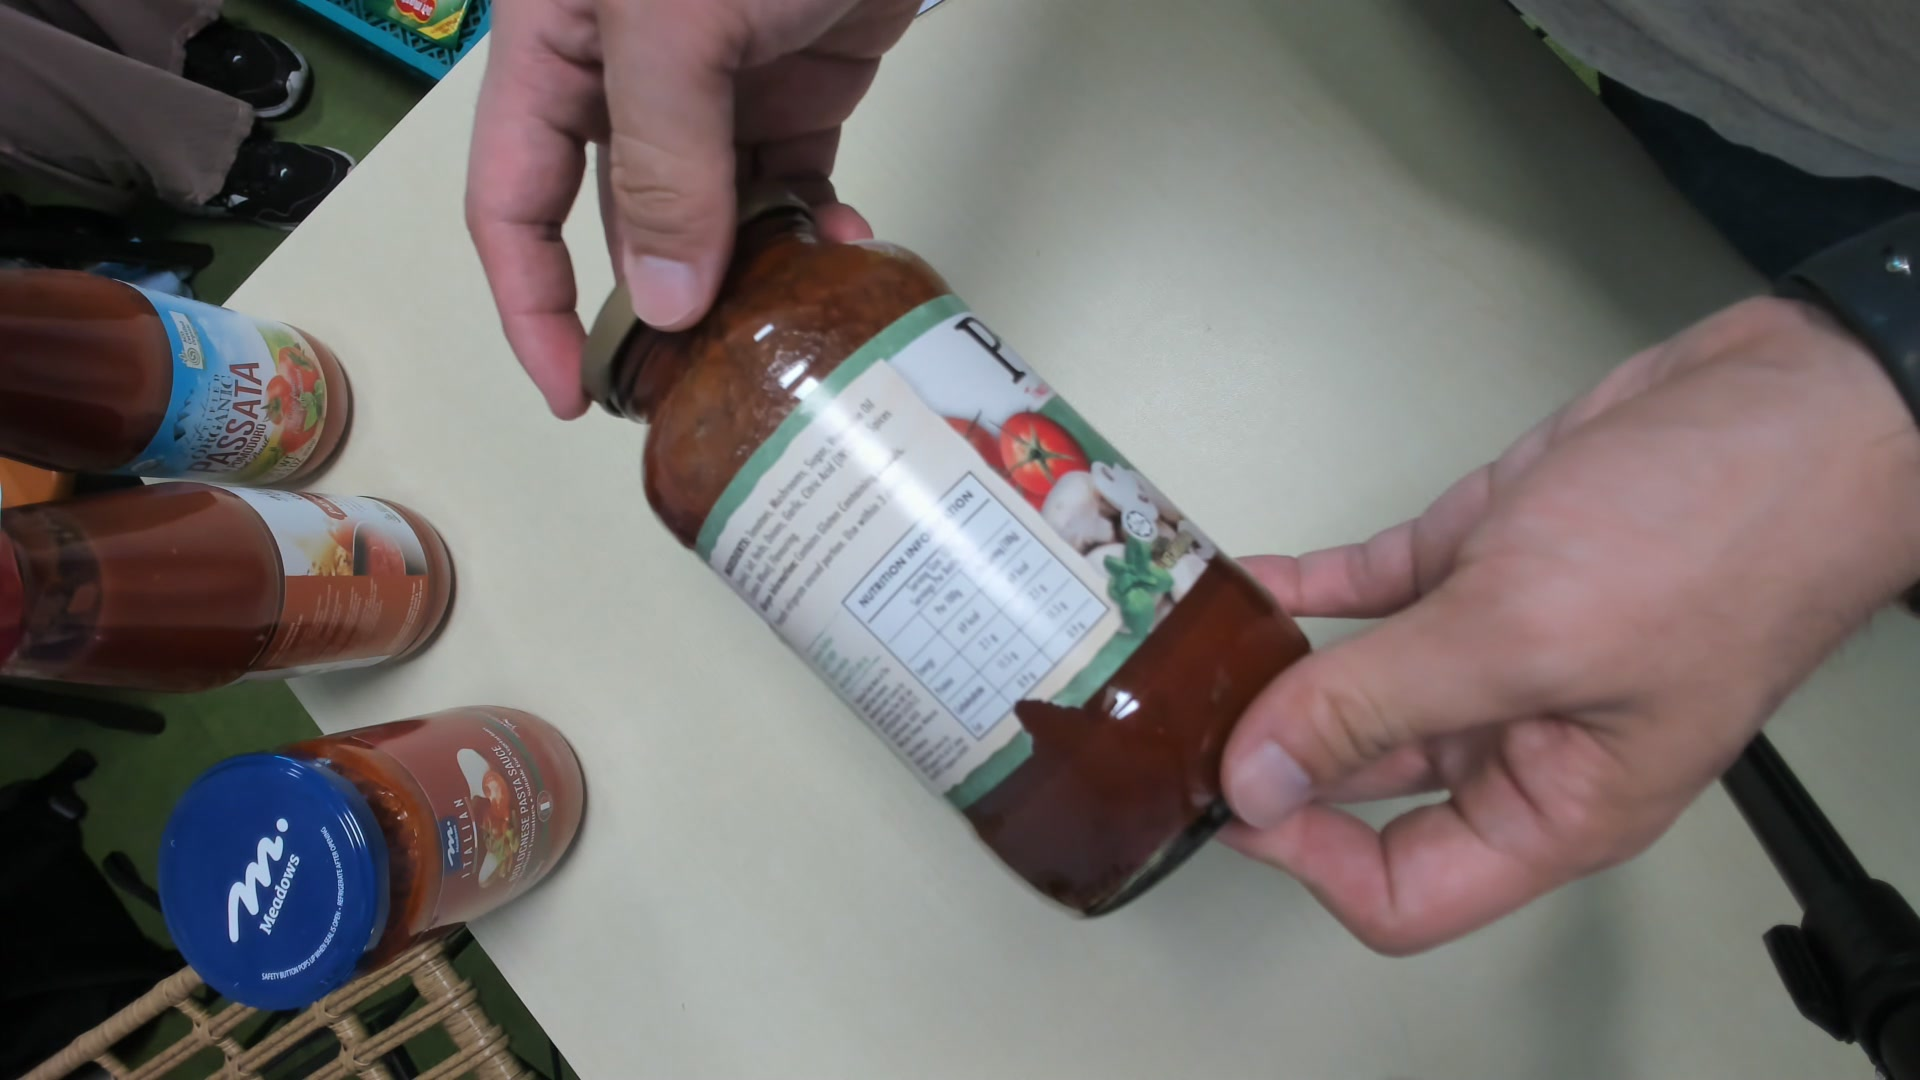PastaSauce_600-699g_Halal_NonHealthy: (564, 196, 1311, 938)
